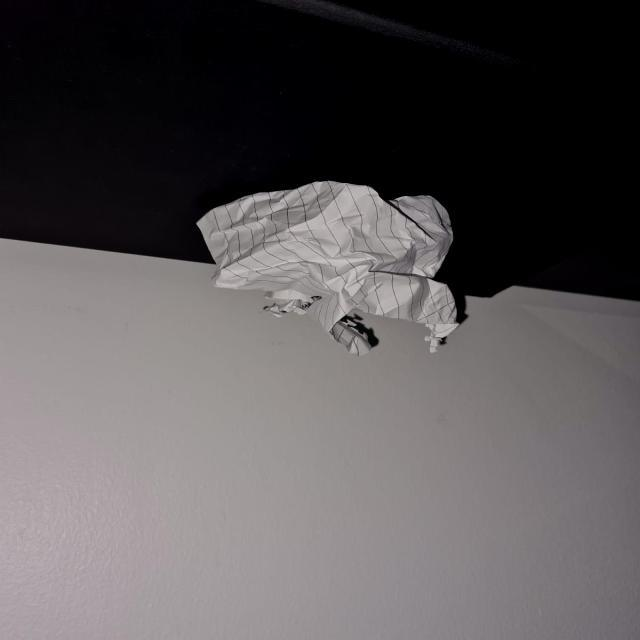Paper: (188, 161, 468, 378)
